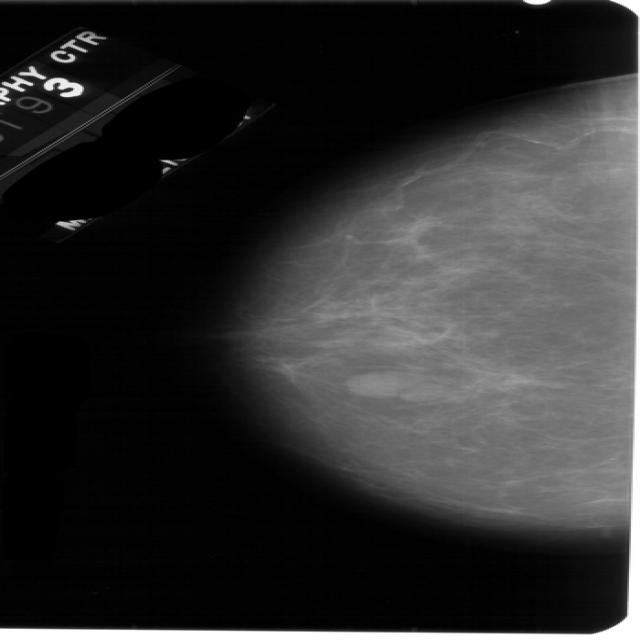tumour: (342, 369, 421, 396)
